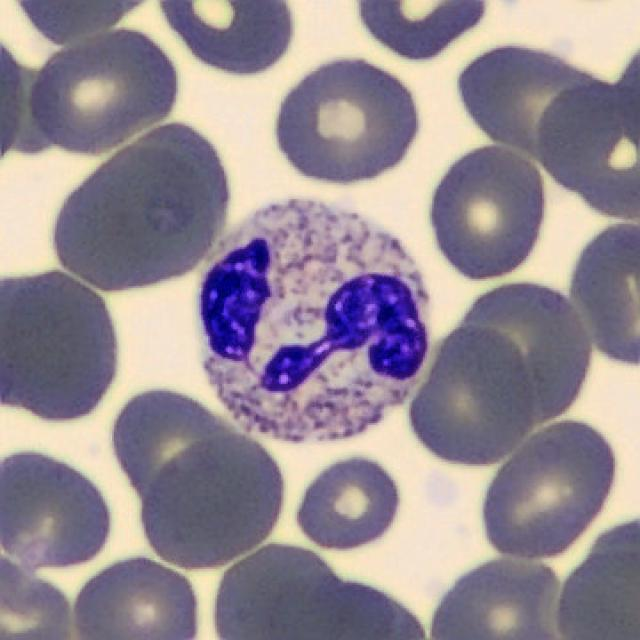Neutrofilo segmentado: (199, 199, 432, 446)
